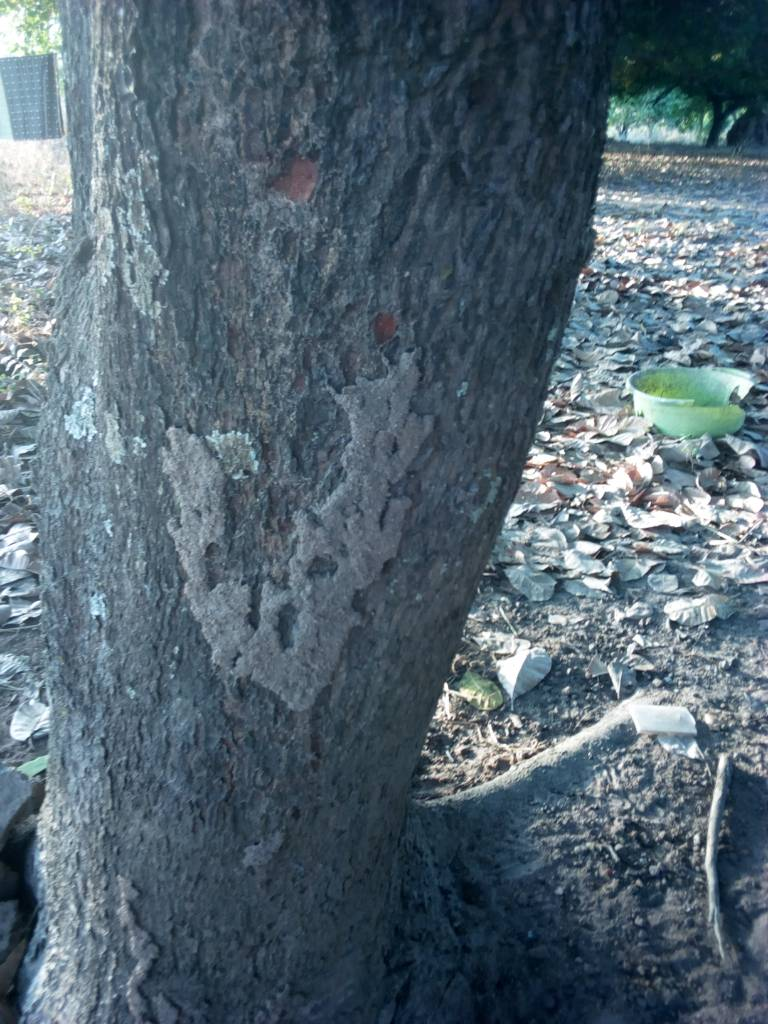Termites: (182, 377, 455, 728), (100, 767, 411, 1024)
